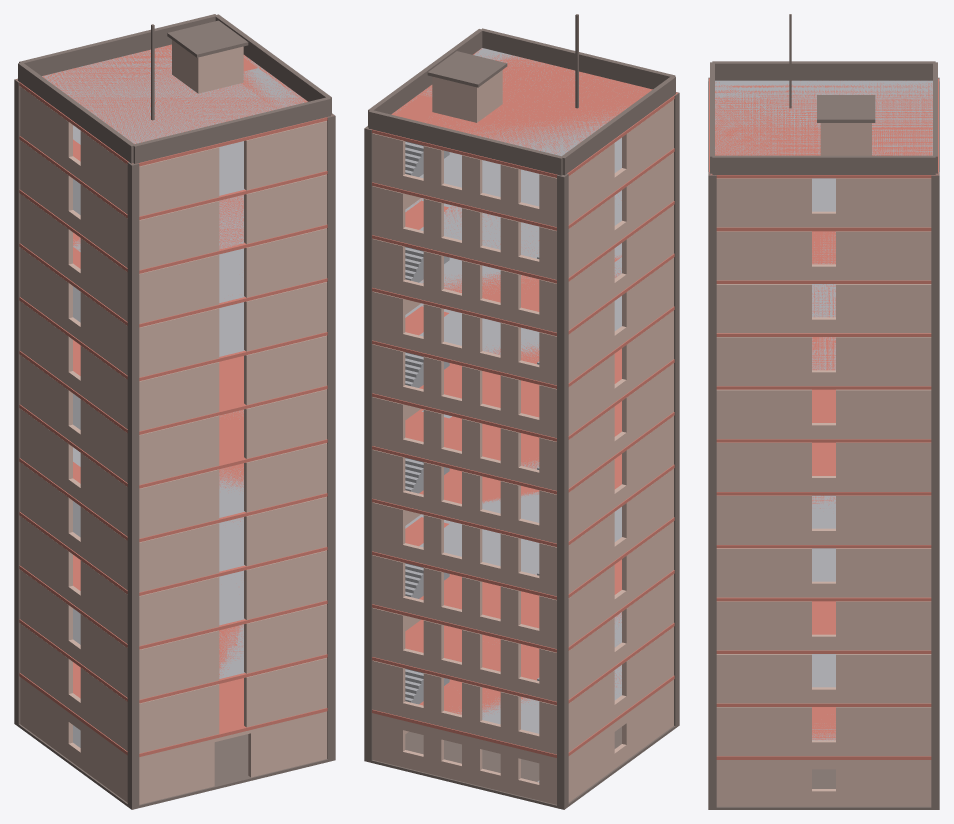
The model's file is highrise_c.glb.
The picture shows the model from 3 angles, left to right: view 1: azimuth 30°, elevation 25°; view 2: azimuth 150°, elevation 25°; view 3: azimuth 270°, elevation 25°; orthographic projection.
Visible parts, largest first — view 1: highrise_c; view 2: highrise_c; view 3: highrise_c.
Part boxes in pixels (x1=…): highrise_c: x1=14, y1=14, x2=335, y2=809; highrise_c: x1=364, y1=14, x2=679, y2=809; highrise_c: x1=708, y1=14, x2=939, y2=809.
Size of the model in its own units: 13.5 by 46.8 by 13.5.
